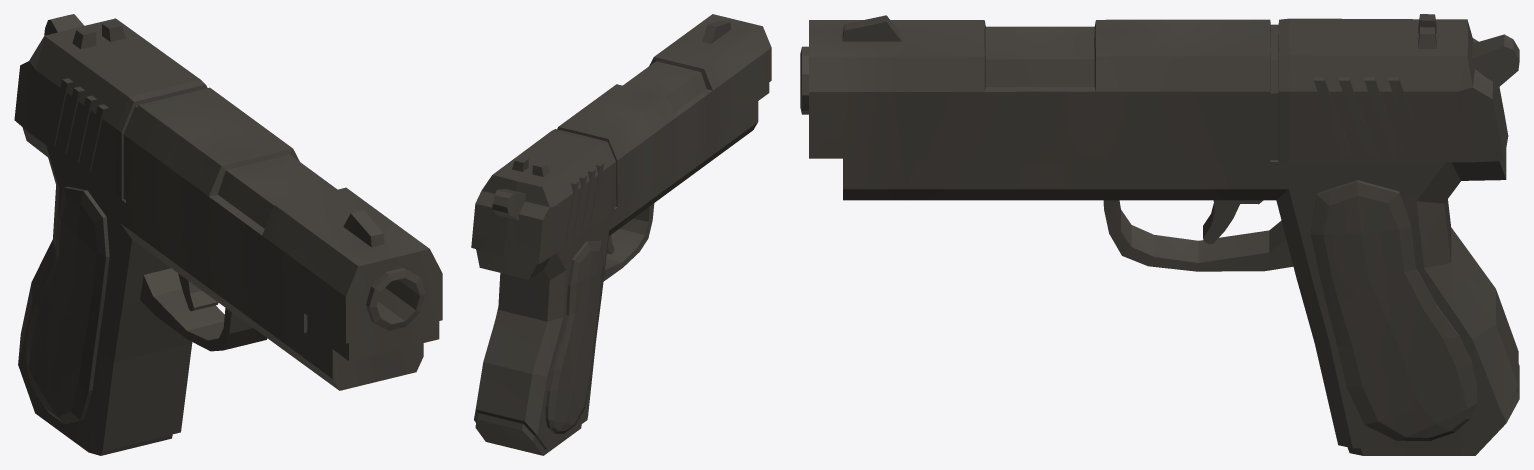
The picture shows the model from 3 angles, left to right: view 1: azimuth 30°, elevation 25°; view 2: azimuth 150°, elevation 25°; view 3: azimuth 270°, elevation 25°; orthographic projection. The views are drawn at different scales.
Parts seen in each view (by area): view 1: p9; view 2: p9; view 3: p9.
Boxes of the visible parts, x1=… form: p9: x1=14, y1=14, x2=442, y2=455; p9: x1=471, y1=14, x2=771, y2=455; p9: x1=800, y1=14, x2=1519, y2=455.
Bounding box in the file's own units: 0.0391 × 0.1405 × 0.22.
Materials: 1 (1 with a texture image).
